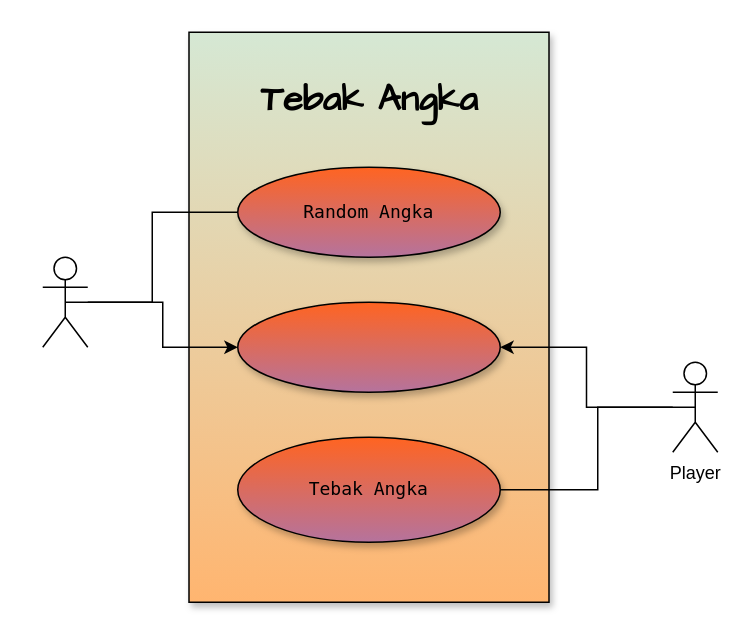
Some shapes in this 747 by 639 pixel diagram are drawn without their labels. The shapes that lost their labels are listed below. From the top down, each one's centre as x and y in pixels, then its label:
pixel 64 301: Computer
pixel 369 349: Clue Angka
